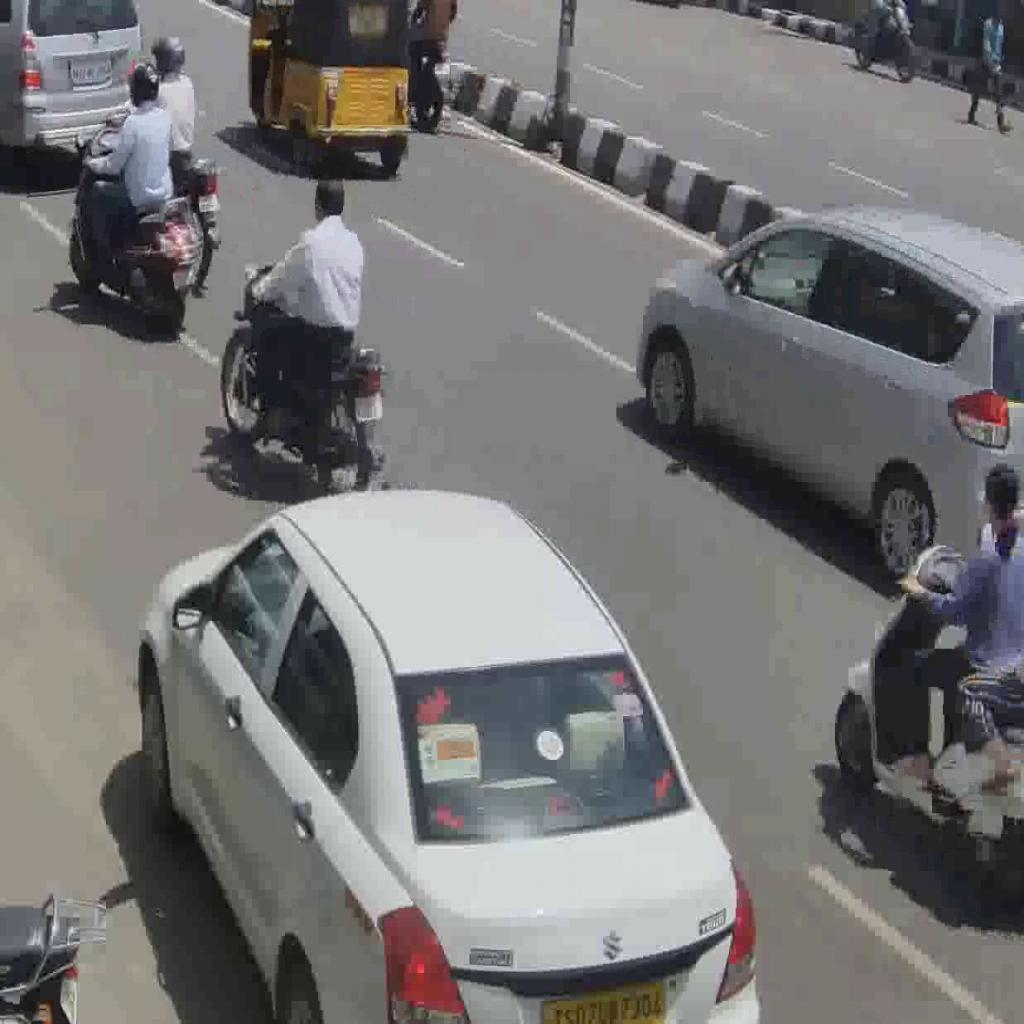bike: (834, 541, 1024, 911), (219, 261, 388, 498), (68, 125, 202, 339)
helmet: (128, 60, 161, 110)
lisc: (354, 391, 384, 424), (173, 265, 195, 290)
no_helmet: (983, 458, 1024, 524), (311, 168, 347, 226)
rider: (886, 458, 1023, 787), (242, 169, 364, 442), (82, 61, 174, 284)
